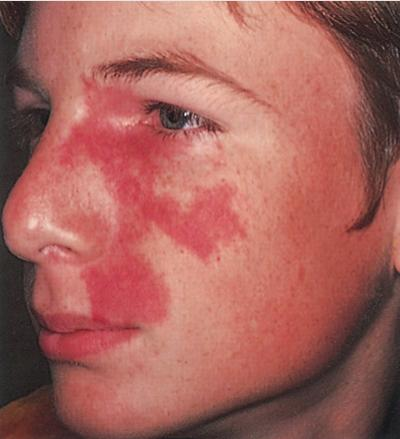Skin-Redness: (69, 68, 258, 331)
